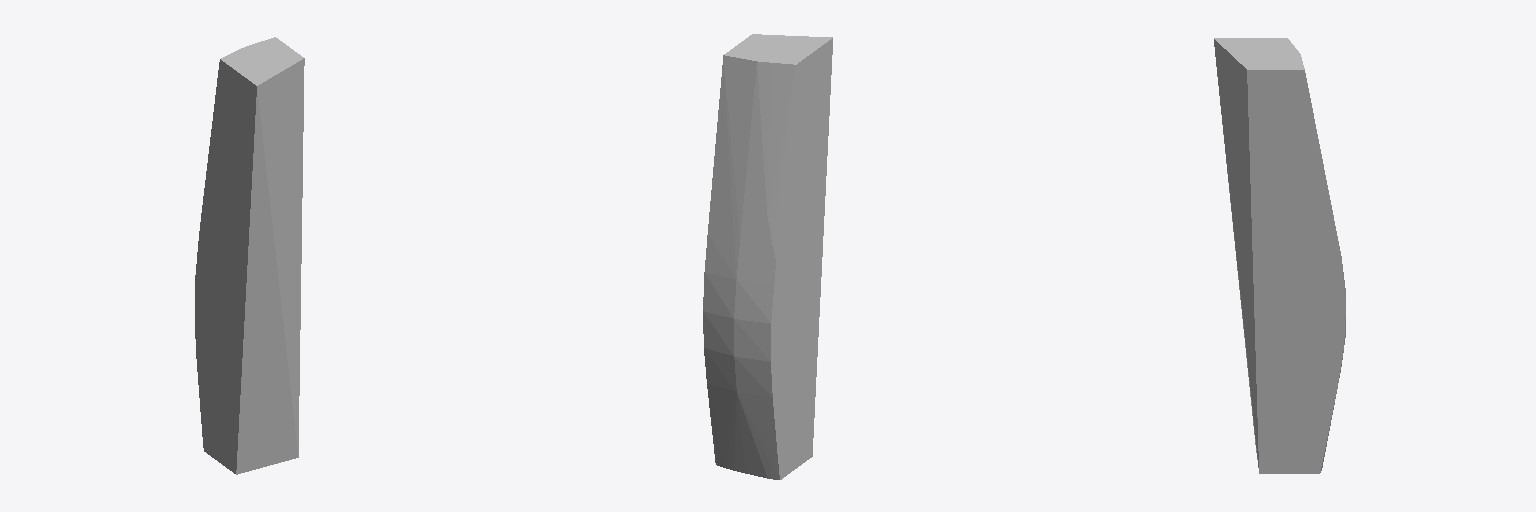
Rendered from phantom-elastrat_collision_499.obj.
The picture shows the model from 3 angles: view 1: azimuth 30°, elevation 25°; view 2: azimuth 150°, elevation 25°; view 3: azimuth 270°, elevation 25°; orthographic projection.
Bounding box in the file's own units: 0.0021 × 0.0124 × 0.0037.